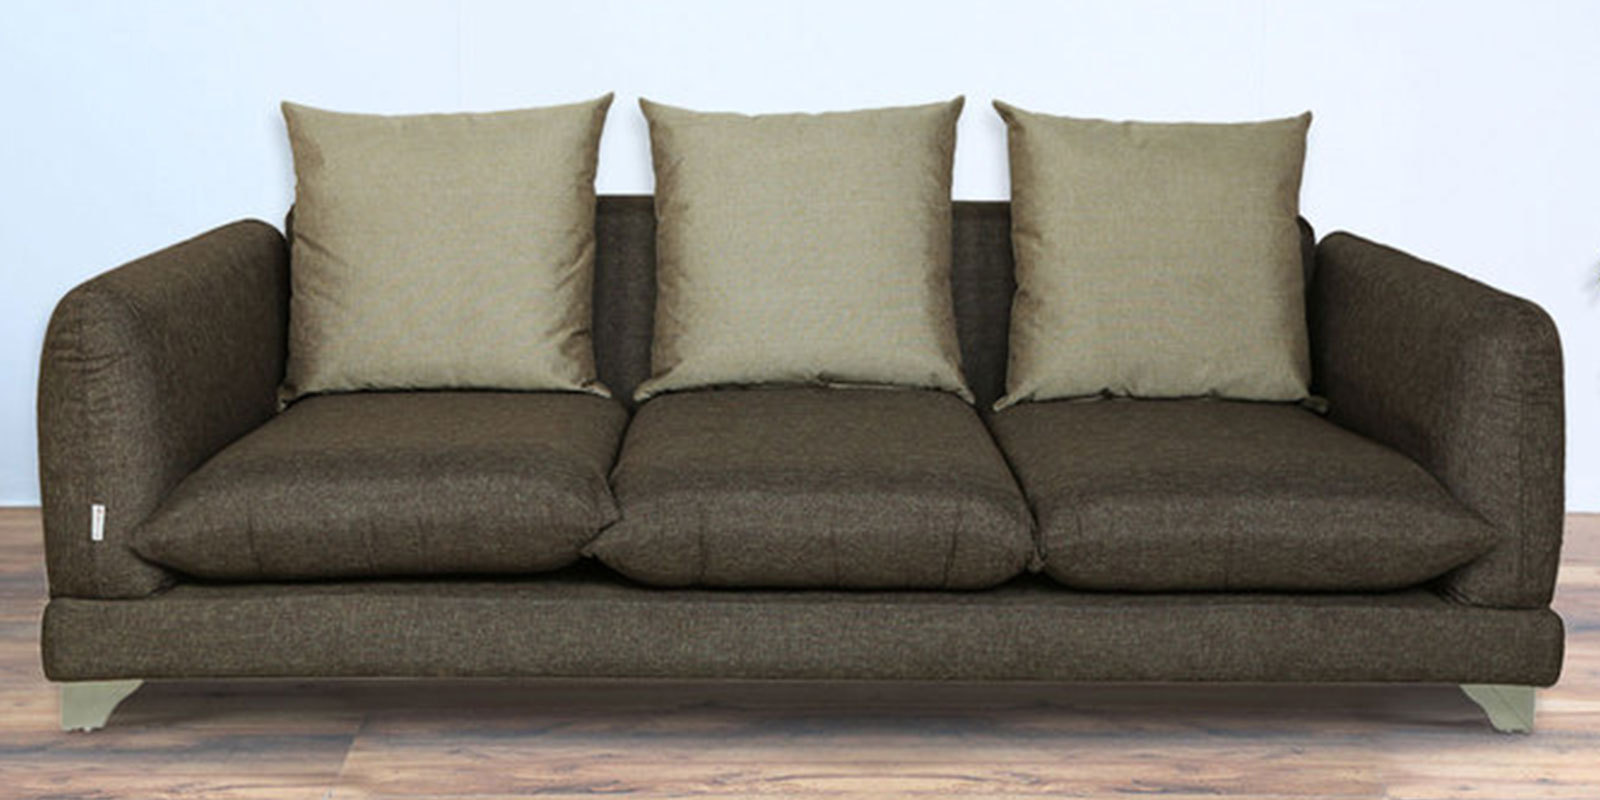Eartigo Three Seater Sofa in Brown Colour by Crystal Furnitech: (26, 85, 1576, 751)
Exclusive Three Seater Sofa in Dark Grey Colour by Parin: (26, 92, 1581, 737)
